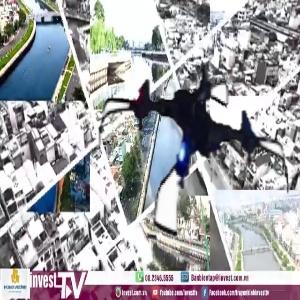drone: (93, 52, 296, 255)
